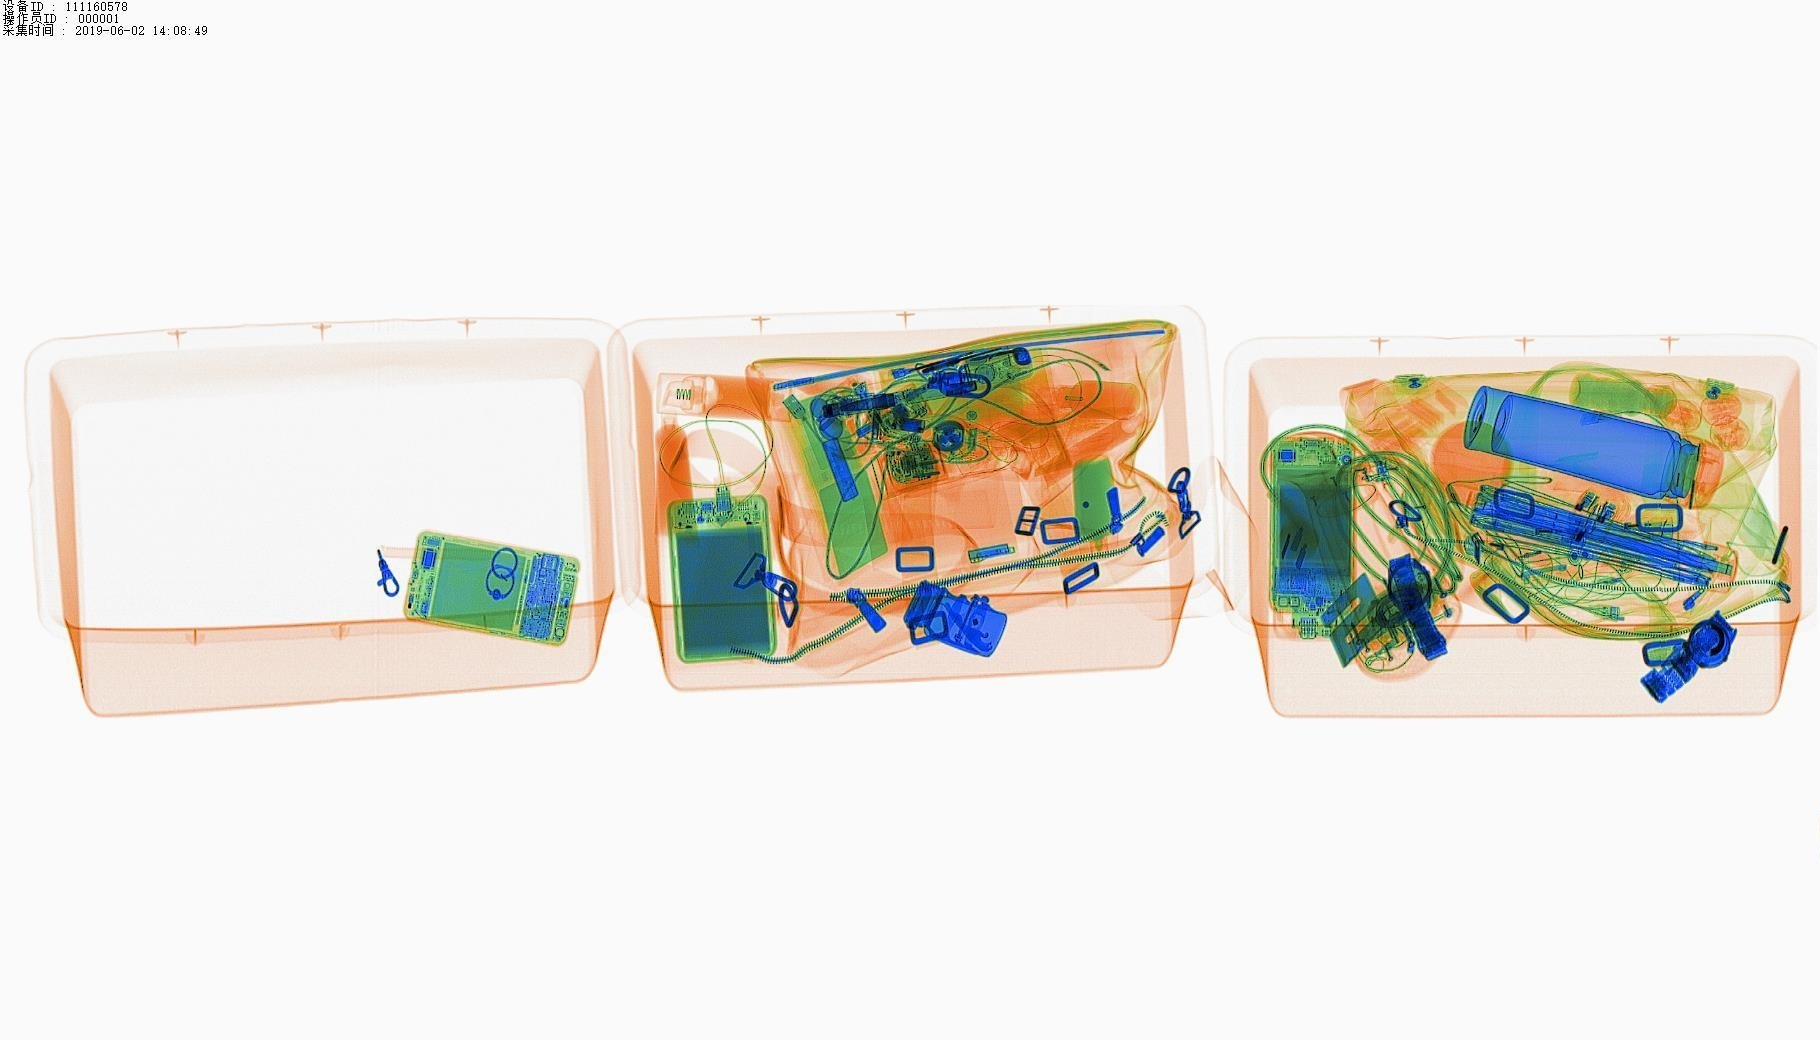NonmetallicFire: (1454, 527, 1549, 587), (1499, 504, 1592, 555), (1601, 509, 1687, 552)
